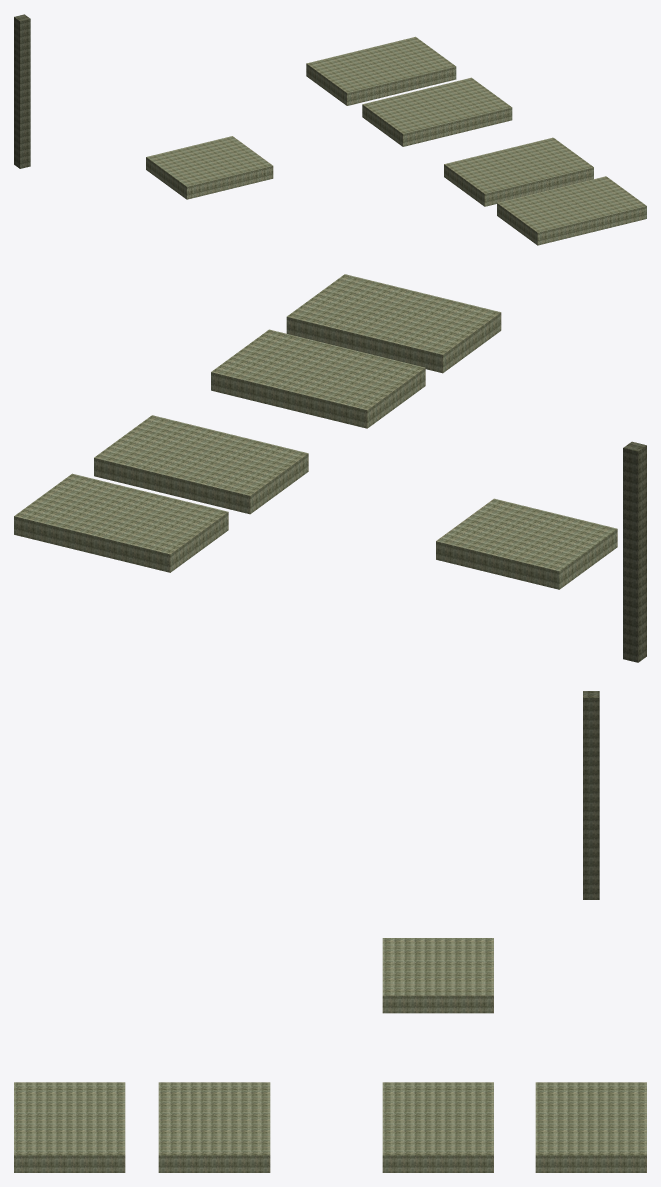
3 renders of one model, top to bottom at view 1: azimuth 30°, elevation 25°; view 2: azimuth 150°, elevation 25°; view 3: azimuth 270°, elevation 25°, orthographic. The views are drawn at different scales.
Visible parts, largest first — view 1: Footing-Rectangular 2000 x3100 x 350mm 3 [683038]001, Footing-Rectangular 2000 x3100 x 350mm 3 [682749]001, Footing-Rectangular 2000 x3100 x 350mm 3 [683298]001, Footing-Rectangular 2000 x3100 x 350mm 3 [683161]001, Footing-Rectangular 2000 x 2450 x 350mm 2 [681510]001, Columns_Rectangular 300 x 300 mm [683734]001; view 2: Footing-Rectangular 2000 x3100 x 350mm 3 [683161]001, Footing-Rectangular 2000 x3100 x 350mm 3 [683038]001, Footing-Rectangular 2000 x3100 x 350mm 3 [682749]001, Footing-Rectangular 2000 x3100 x 350mm 3 [683298]001, Footing-Rectangular 2000 x 2450 x 350mm 2 [681510]001, Columns_Rectangular 300 x 300 mm [683734]001; view 3: Footing-Rectangular 2000 x3100 x 350mm 3 [683161]001, Footing-Rectangular 2000 x3100 x 350mm 3 [682749]001, Footing-Rectangular 2000 x3100 x 350mm 3 [683038]001, Footing-Rectangular 2000 x3100 x 350mm 3 [683298]001, Footing-Rectangular 2000 x 2450 x 350mm 2 [681510]001, Columns_Rectangular 300 x 300 mm [683734]001.
Part boxes in pixels (x1,y1,x2,y2): Footing-Rectangular 2000 x3100 x 350mm 3 [683038]001: (362, 77, 512, 146); Footing-Rectangular 2000 x3100 x 350mm 3 [682749]001: (306, 36, 456, 105); Footing-Rectangular 2000 x3100 x 350mm 3 [683298]001: (497, 176, 646, 245); Footing-Rectangular 2000 x3100 x 350mm 3 [683161]001: (444, 137, 593, 206); Footing-Rectangular 2000 x 2450 x 350mm 2 [681510]001: (146, 136, 273, 199); Columns_Rectangular 300 x 300 mm [683734]001: (14, 14, 30, 168); Footing-Rectangular 2000 x3100 x 350mm 3 [683161]001: (211, 329, 425, 428); Footing-Rectangular 2000 x3100 x 350mm 3 [683038]001: (94, 415, 308, 514); Footing-Rectangular 2000 x3100 x 350mm 3 [682749]001: (14, 473, 228, 572); Footing-Rectangular 2000 x3100 x 350mm 3 [683298]001: (286, 274, 501, 373); Footing-Rectangular 2000 x 2450 x 350mm 2 [681510]001: (436, 498, 617, 589); Columns_Rectangular 300 x 300 mm [683734]001: (623, 441, 646, 662); Footing-Rectangular 2000 x3100 x 350mm 3 [683161]001: (158, 1082, 270, 1172); Footing-Rectangular 2000 x3100 x 350mm 3 [682749]001: (535, 1082, 646, 1172); Footing-Rectangular 2000 x3100 x 350mm 3 [683038]001: (382, 1082, 493, 1172); Footing-Rectangular 2000 x3100 x 350mm 3 [683298]001: (14, 1082, 125, 1172); Footing-Rectangular 2000 x 2450 x 350mm 2 [681510]001: (382, 938, 493, 1013); Columns_Rectangular 300 x 300 mm [683734]001: (583, 691, 599, 899).
Size of the model in its own units: 11.88 by 4 by 11.36.
Materials: 2 (2 with a texture image).
